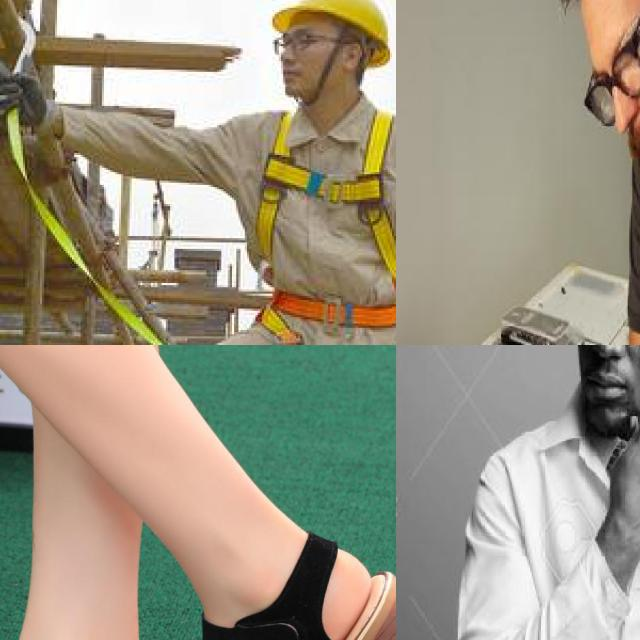Harness: (234, 105, 396, 345), (0, 0, 51, 185)
Sandals: (172, 533, 396, 640)
face_nomask: (589, 42, 640, 173), (572, 345, 640, 406)
glasses: (583, 35, 640, 129)
hand_noglove: (603, 413, 640, 539)
person: (456, 345, 640, 640), (543, 0, 640, 345)
